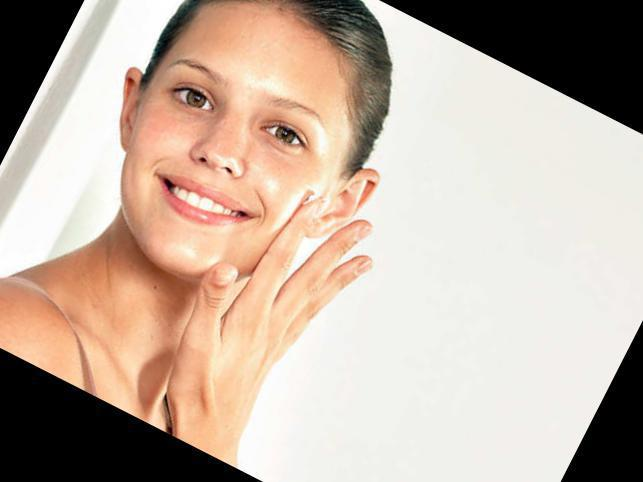Sober: (143, 16, 334, 257)
